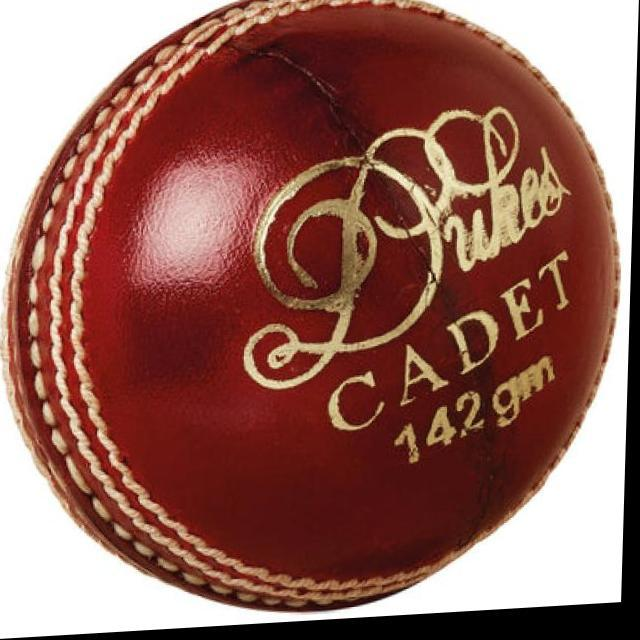cricket ball: (2, 0, 622, 618)
